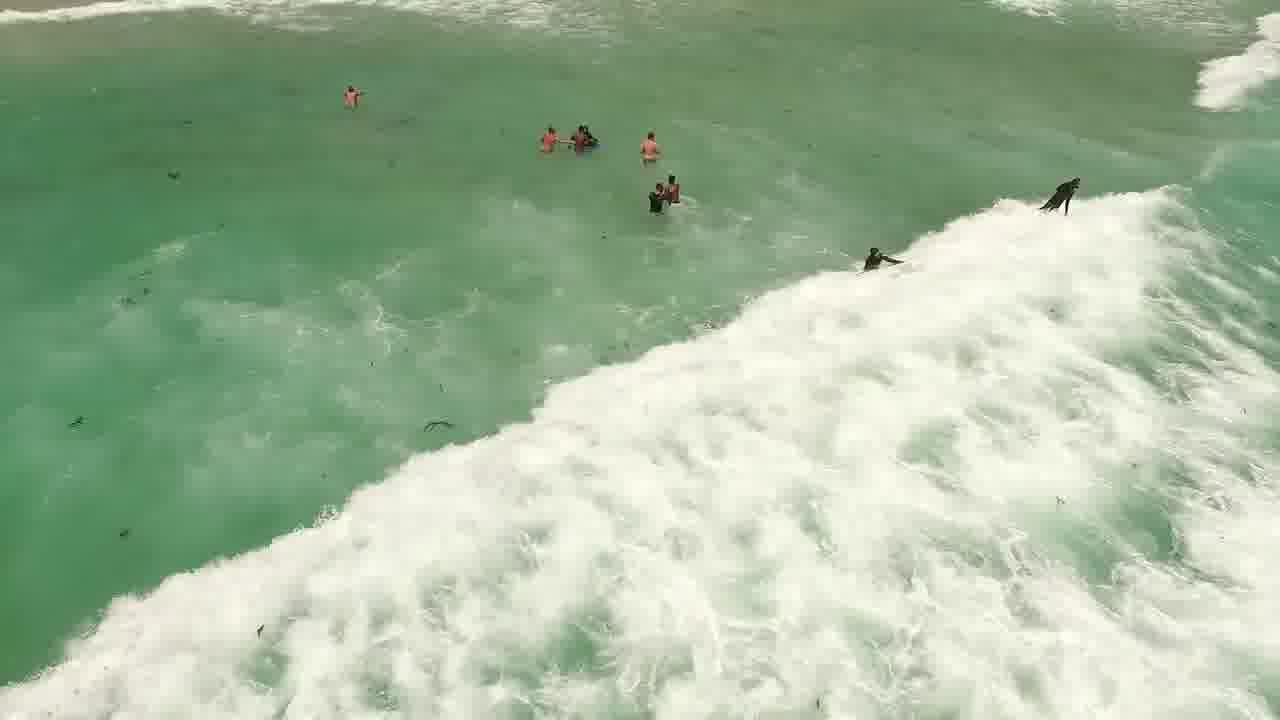human: (568, 116, 611, 155), (331, 74, 375, 112), (526, 118, 569, 156), (629, 125, 674, 159)
